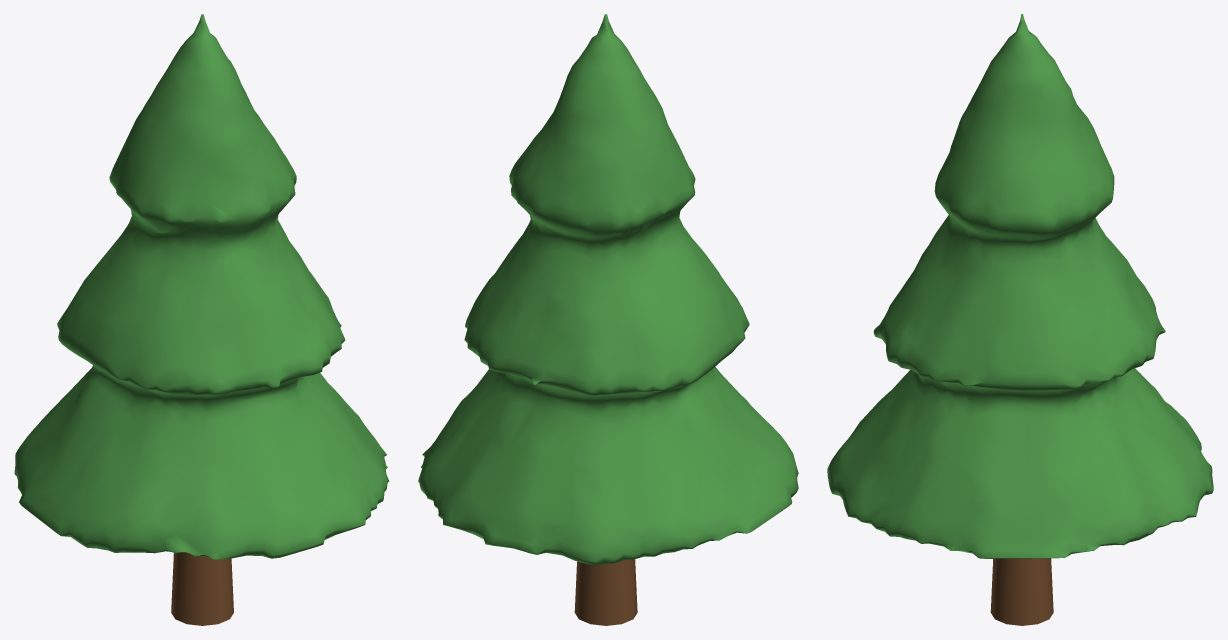
The model's file is pine.glb.
3 views of the same model, side by side, from view 1: azimuth 30°, elevation 25°; view 2: azimuth 150°, elevation 25°; view 3: azimuth 270°, elevation 25° (orthographic).
Visible parts, largest first — view 1: Canopy, Trunk; view 2: Canopy, Trunk; view 3: Canopy, Trunk.
Boxes of the visible parts, x1,y1,x2,y2 form: Canopy: [14, 14, 389, 559]; Trunk: [171, 552, 233, 625]; Canopy: [418, 14, 798, 564]; Trunk: [574, 559, 637, 625]; Canopy: [827, 14, 1213, 558]; Trunk: [990, 558, 1053, 625].
Size of the model in its own units: 1.81 by 3.15 by 1.84.
